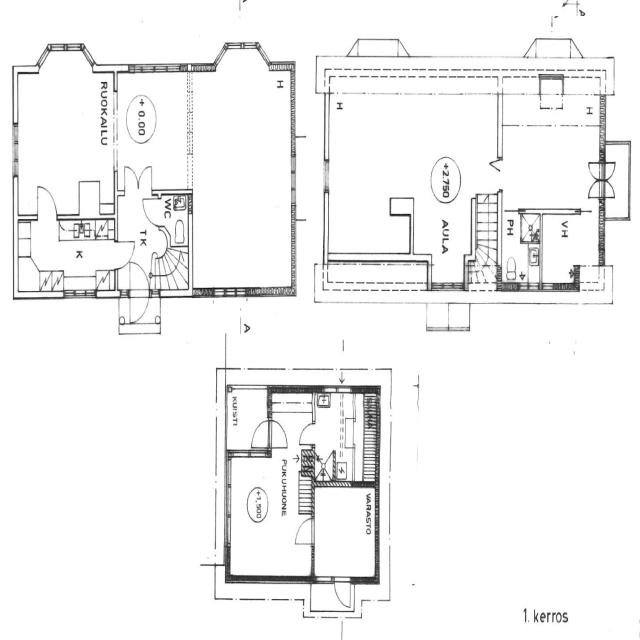door: (604, 142, 630, 218), (128, 258, 150, 324), (32, 180, 60, 221), (128, 161, 156, 193), (293, 514, 316, 548), (332, 574, 353, 610), (114, 236, 135, 270), (249, 417, 270, 451), (141, 194, 161, 227), (269, 418, 288, 448), (298, 419, 315, 445), (587, 158, 601, 181), (587, 177, 602, 198), (604, 178, 618, 199), (604, 160, 618, 180)
window: (10, 117, 22, 177), (288, 150, 299, 207), (34, 40, 51, 72), (213, 285, 246, 301), (79, 42, 97, 70), (212, 39, 228, 68), (256, 41, 272, 68), (321, 155, 331, 193), (229, 446, 251, 458), (314, 572, 334, 585), (335, 384, 353, 393)
zone: (319, 83, 493, 268), (192, 55, 294, 294), (16, 52, 116, 218), (500, 90, 603, 211), (224, 453, 308, 580), (118, 68, 192, 191), (17, 218, 117, 295), (310, 484, 376, 580), (313, 391, 369, 482), (540, 209, 604, 283), (500, 214, 540, 287), (226, 386, 268, 452), (604, 140, 631, 220), (154, 191, 192, 245)
